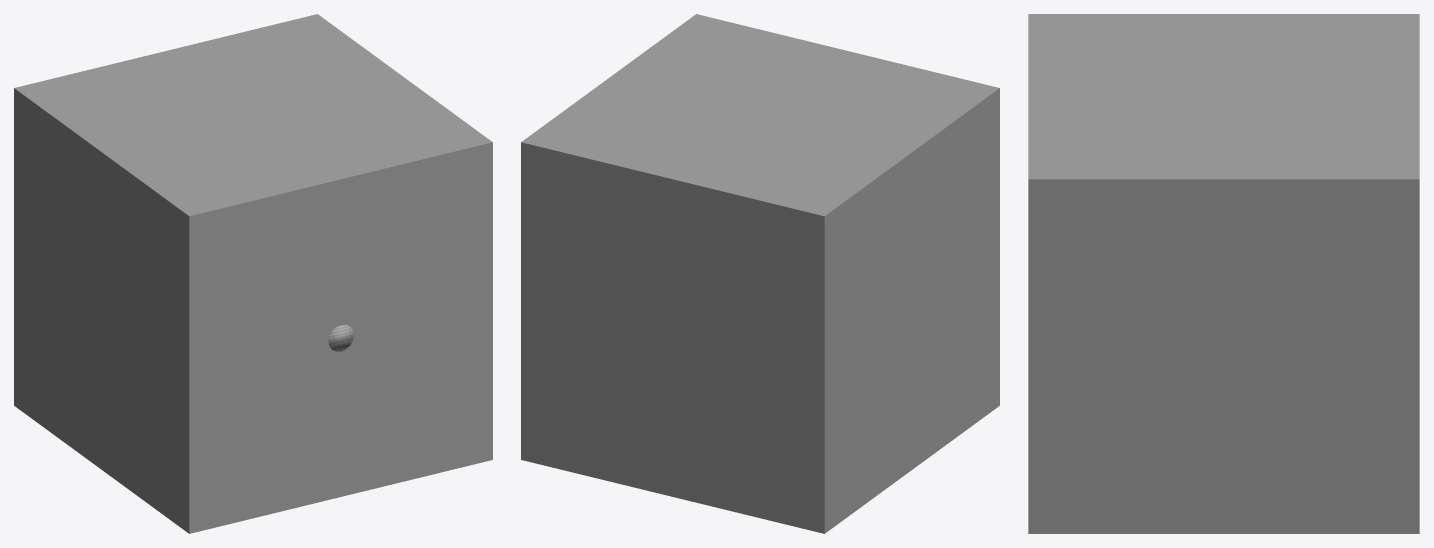
File: Generator.obj
The picture shows the model from 3 angles, left to right: view 1: azimuth 30°, elevation 25°; view 2: azimuth 150°, elevation 25°; view 3: azimuth 270°, elevation 25°; orthographic projection. The views are drawn at different scales.
Visible parts, largest first — view 1: Minecraft_Block_Cube.001, Shaft; view 2: Minecraft_Block_Cube.001; view 3: Minecraft_Block_Cube.001.
Part boxes in pixels (box(x1,y1,x2,y2)): Minecraft_Block_Cube.001: box(14, 14, 492, 533); Shaft: box(328, 324, 353, 351); Minecraft_Block_Cube.001: box(521, 14, 999, 533); Minecraft_Block_Cube.001: box(1028, 14, 1419, 533).
Bounding box in the file's own units: 1 × 1 × 1.
Materials: 5 (3 with a texture image).
